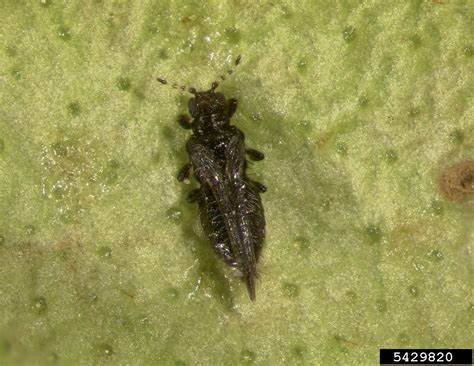Thripidae: (159, 54, 271, 299)
